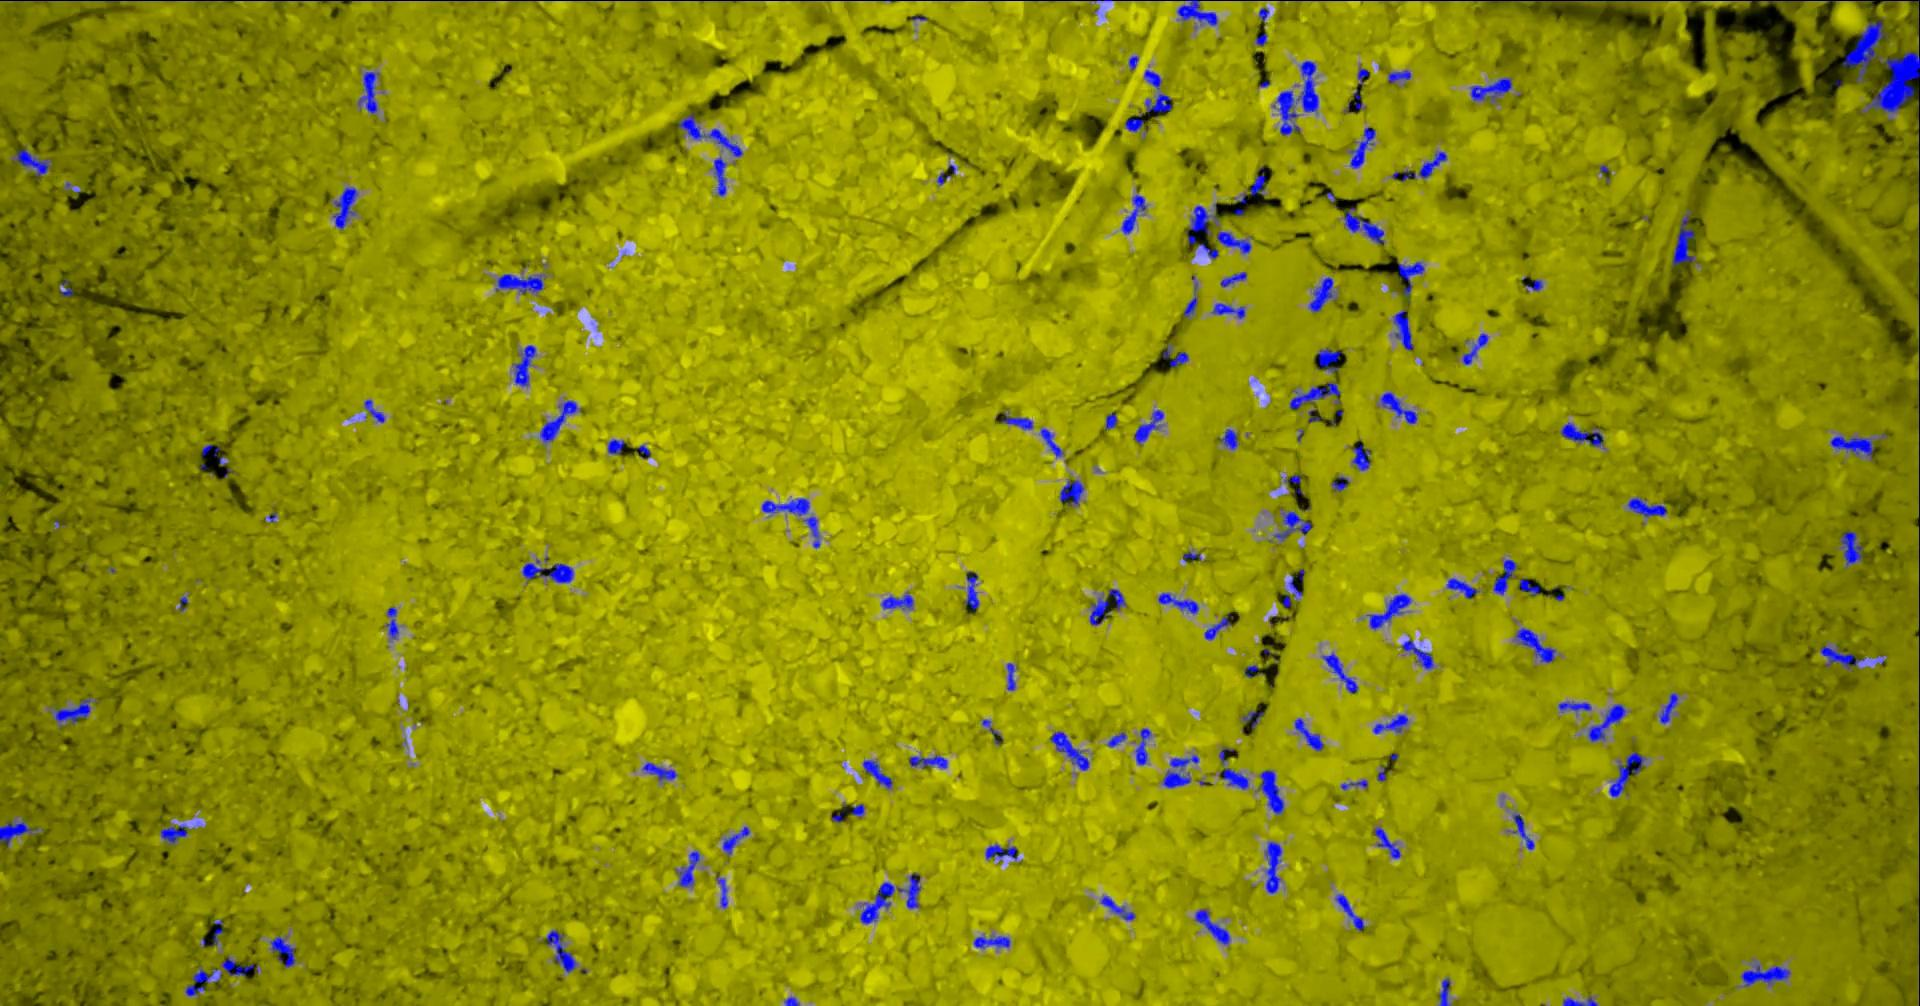ant: (861, 873, 922, 923), (1843, 19, 1890, 83), (763, 497, 822, 547), (679, 113, 744, 156), (541, 400, 583, 442), (1610, 751, 1648, 796), (1393, 151, 1448, 180), (1368, 593, 1412, 629), (1051, 730, 1091, 770), (1345, 207, 1385, 244), (1589, 702, 1627, 741), (1323, 653, 1359, 692), (1187, 202, 1220, 244), (1517, 627, 1557, 662), (1672, 210, 1697, 265), (1291, 382, 1342, 408), (547, 929, 577, 972), (523, 558, 575, 582), (1562, 422, 1606, 448), (1196, 909, 1230, 944), (1164, 754, 1200, 788), (1399, 260, 1426, 304), (1822, 645, 1867, 671), (1382, 392, 1418, 423), (14, 147, 52, 177), (1275, 511, 1313, 540), (1742, 963, 1790, 986), (1, 818, 41, 846), (1336, 894, 1366, 930), (1261, 770, 1285, 814), (1402, 638, 1435, 669), (1832, 434, 1876, 459), (1178, 0, 1219, 25), (1351, 127, 1377, 168), (334, 187, 359, 227), (55, 699, 91, 727), (497, 273, 546, 293), (1135, 409, 1164, 443), (1472, 77, 1512, 102), (1123, 194, 1148, 232), (185, 965, 218, 995), (516, 344, 538, 386), (359, 71, 381, 113), (1310, 276, 1335, 312), (1297, 718, 1324, 749), (1159, 592, 1200, 614), (1266, 841, 1283, 893), (1495, 559, 1519, 594), (1512, 813, 1537, 848), (863, 760, 894, 788), (270, 935, 297, 967), (1841, 530, 1864, 567), (1102, 895, 1137, 920), (1375, 827, 1402, 857), (1464, 333, 1490, 365), (1629, 497, 1669, 517), (1396, 309, 1415, 351), (724, 826, 750, 855), (1218, 231, 1253, 253), (222, 956, 260, 976), (681, 851, 701, 887), (1448, 577, 1481, 598), (1206, 612, 1232, 639), (1374, 714, 1410, 733), (1041, 428, 1065, 456), (644, 762, 679, 780), (1147, 93, 1173, 116), (1062, 479, 1084, 506), (1137, 727, 1153, 763), (1091, 597, 1112, 625), (1220, 768, 1250, 789), (1318, 347, 1342, 371), (1164, 343, 1190, 366), (965, 572, 980, 608), (1661, 694, 1680, 723), (883, 592, 916, 608), (985, 843, 1018, 860), (1183, 282, 1199, 318), (163, 823, 189, 843), (910, 754, 949, 768), (983, 719, 1003, 744), (1345, 86, 1364, 113), (1003, 413, 1034, 429), (715, 156, 728, 196), (364, 399, 386, 422), (1352, 445, 1371, 470), (975, 935, 1012, 948), (1213, 304, 1246, 318), (1126, 113, 1150, 132), (1252, 166, 1267, 196), (387, 606, 400, 639), (1222, 271, 1248, 286), (1559, 701, 1592, 713), (717, 875, 729, 907), (1145, 69, 1163, 89), (1222, 428, 1239, 448), (1110, 588, 1128, 608), (1520, 578, 1542, 594), (1244, 710, 1265, 727), (1440, 977, 1451, 1005), (1564, 996, 1599, 1005), (1389, 70, 1412, 83), (1201, 243, 1220, 258), (1290, 575, 1304, 596), (1008, 662, 1018, 690), (1342, 779, 1369, 789), (1109, 732, 1128, 746), (213, 920, 223, 945), (60, 279, 75, 296), (1333, 476, 1350, 492), (610, 439, 626, 453), (1359, 67, 1370, 85), (203, 445, 221, 456), (1183, 551, 1203, 561), (1106, 413, 1117, 429), (1526, 279, 1544, 290), (639, 445, 651, 459), (1246, 664, 1260, 677), (852, 803, 865, 815), (1257, 32, 1269, 46), (1130, 55, 1140, 70), (1286, 474, 1302, 483), (786, 996, 801, 1005)
